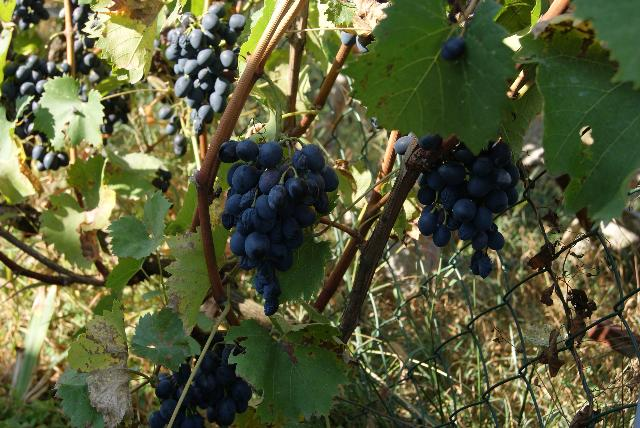grapes: (218, 139, 339, 315), (418, 140, 520, 278), (165, 4, 246, 135), (149, 340, 252, 428), (1, 55, 69, 171)
